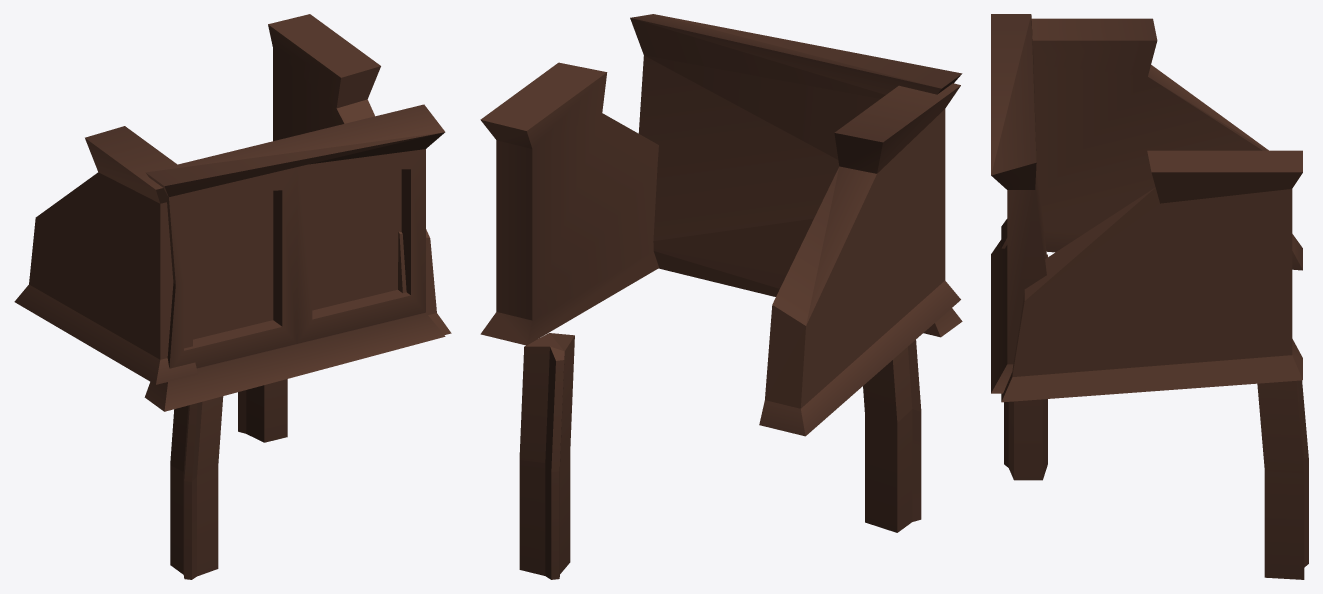
File: Commode_break.fbx
3 views of the same model, side by side, from view 1: azimuth 30°, elevation 25°; view 2: azimuth 150°, elevation 25°; view 3: azimuth 270°, elevation 25° (orthographic). The views are drawn at different scales.
Visible parts, largest first — view 1: polySurface190, polySurface188, polySurface189, polySurface187, polySurface191; view 2: polySurface190, polySurface188, polySurface189, polySurface191, polySurface187; view 3: polySurface189, polySurface188, polySurface190, polySurface191, polySurface187.
Part boxes in pixels (bbox=[...]): polySurface190: bbox=[144, 104, 445, 411]; polySurface188: bbox=[14, 126, 197, 384]; polySurface189: bbox=[268, 14, 451, 334]; polySurface187: bbox=[170, 396, 223, 579]; polySurface191: bbox=[238, 379, 287, 442]; polySurface190: bbox=[630, 14, 962, 337]; polySurface188: bbox=[759, 83, 960, 436]; polySurface189: bbox=[480, 62, 658, 345]; polySurface191: bbox=[519, 333, 574, 579]; polySurface187: bbox=[863, 340, 921, 532]; polySurface189: bbox=[1001, 150, 1302, 402]; polySurface188: bbox=[1001, 18, 1302, 270]; polySurface190: bbox=[991, 14, 1046, 393]; polySurface191: bbox=[1257, 380, 1308, 579]; polySurface187: bbox=[1004, 254, 1047, 480].
Bounding box in the file's own units: 1.28 × 1.68 × 1.12.
